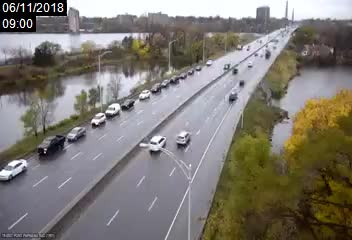personal_car: (1, 158, 28, 182), (38, 135, 64, 155), (149, 135, 166, 153), (67, 125, 86, 140), (105, 103, 122, 117), (176, 131, 190, 146), (121, 97, 135, 111), (92, 113, 106, 126), (150, 82, 163, 93), (139, 89, 151, 100), (228, 89, 237, 102), (160, 78, 169, 89), (170, 75, 179, 84), (238, 78, 245, 87), (205, 59, 212, 66), (180, 72, 186, 79), (195, 65, 201, 71), (231, 68, 237, 74), (188, 68, 193, 75)
